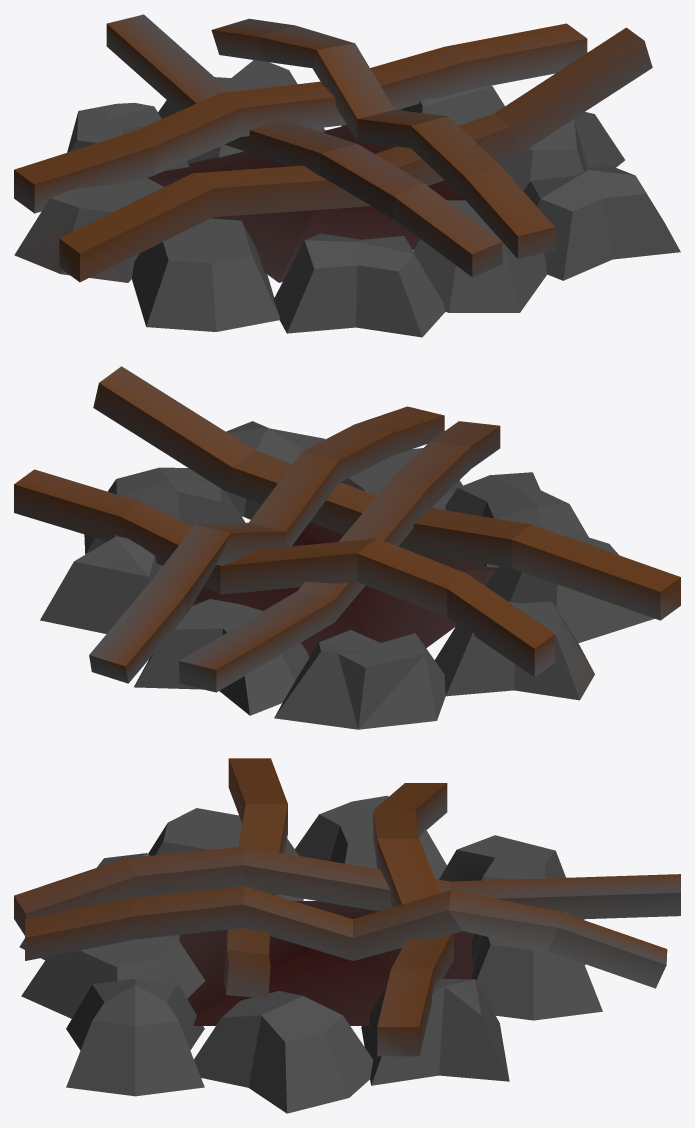
Rendered from FogueiraA.fbx.
3 views of the same model, one above another, from view 1: azimuth 30°, elevation 25°; view 2: azimuth 150°, elevation 25°; view 3: azimuth 270°, elevation 25° (orthographic). The views are drawn at different scales.
Parts seen in each view (by area): view 1: LOD_0; view 2: LOD_0; view 3: LOD_0.
Boxes of the visible parts, left/top/right/bottom form: LOD_0: left=14, top=14, right=680, bottom=337; LOD_0: left=14, top=366, right=680, bottom=729; LOD_0: left=14, top=758, right=680, bottom=1113.
Size of what is drawn, in the model's own units: 209 by 49.06 by 203.
